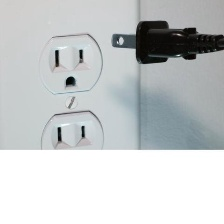three_eye_plug: (0, 0, 145, 174)
